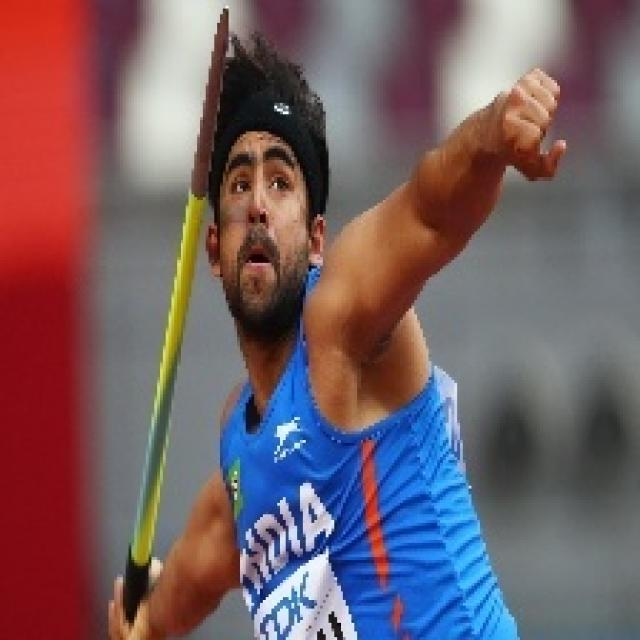javelin: (111, 1, 418, 640)
